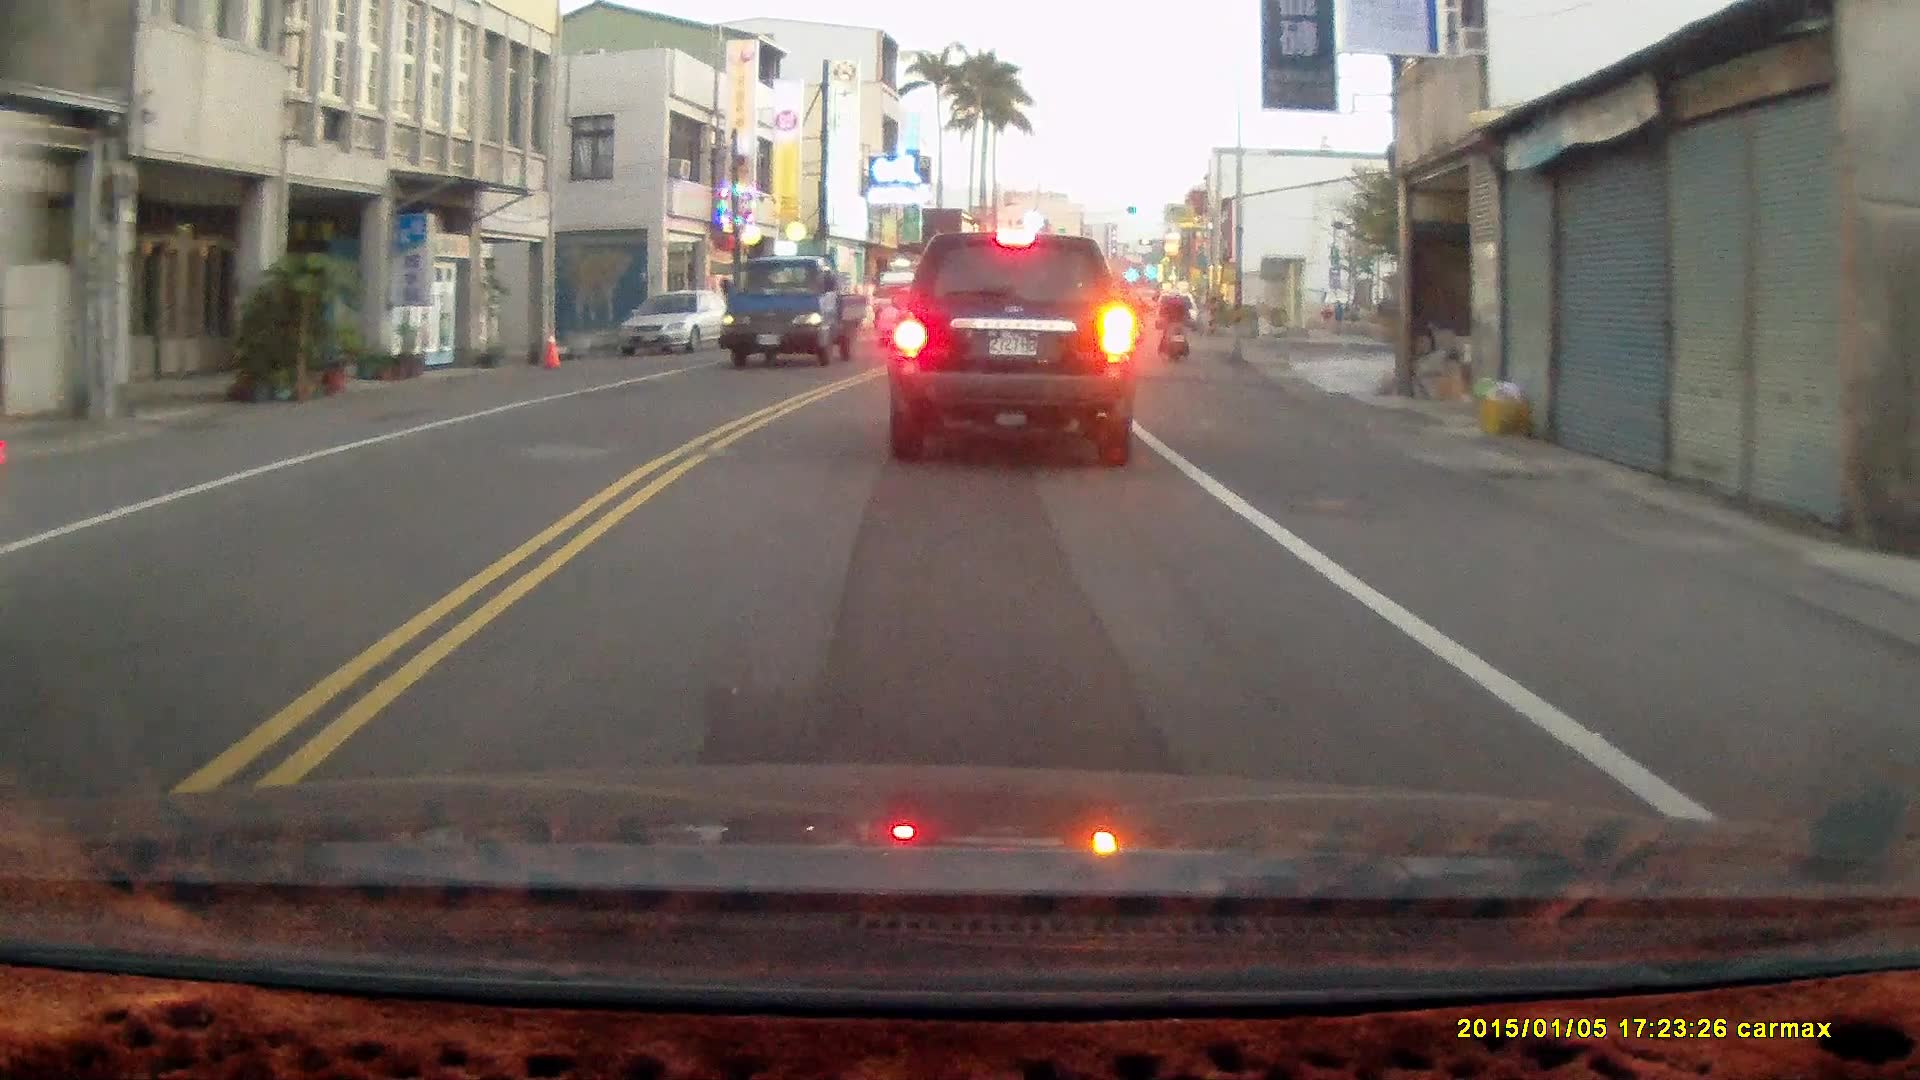rider: (1157, 280, 1188, 361)
vehicle: (886, 227, 1139, 465), (718, 254, 862, 371), (613, 289, 742, 356)
